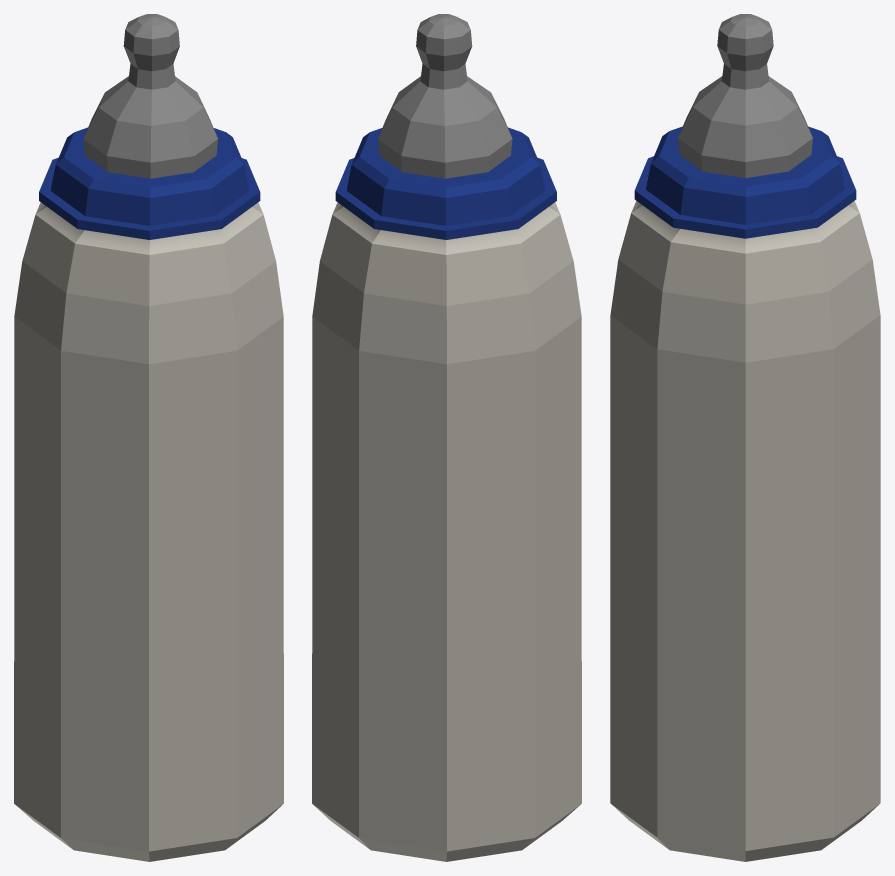
Rendered from baby_bottle_export_1.fbx.
The picture shows the model from 3 angles, left to right: view 1: azimuth 30°, elevation 25°; view 2: azimuth 150°, elevation 25°; view 3: azimuth 270°, elevation 25°; orthographic projection.
Visible parts, largest first — view 1: pCylinder1; view 2: pCylinder1; view 3: pCylinder1.
Part boxes in pixels (box(x1,y1,x2,y2)): pCylinder1: box(14, 14, 283, 861); pCylinder1: box(312, 14, 581, 861); pCylinder1: box(610, 14, 880, 861).
Size of the model in its own units: 1.76 by 5.8 by 1.79.
